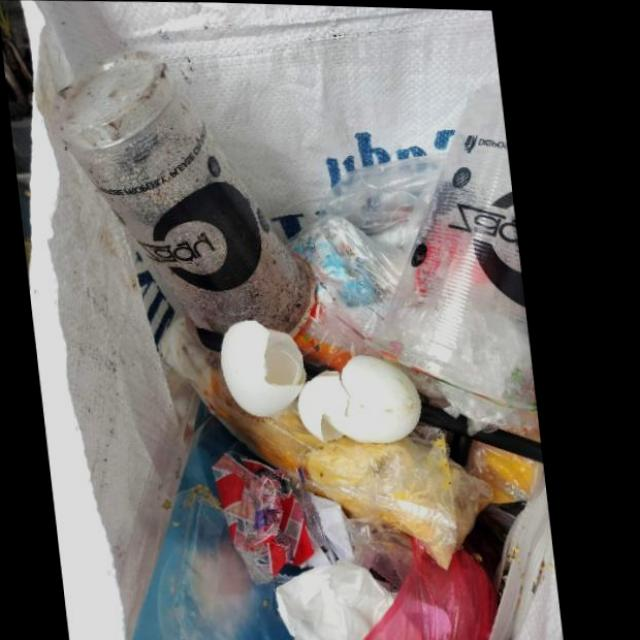bao_bi_thuc_pham: (215, 451, 340, 587)
hop_nhua: (69, 51, 324, 352), (377, 94, 540, 403)
ong_hut_nhua: (423, 398, 547, 462), (201, 327, 229, 351), (307, 363, 330, 380)
vo_trung: (301, 353, 427, 443), (225, 319, 313, 418)
